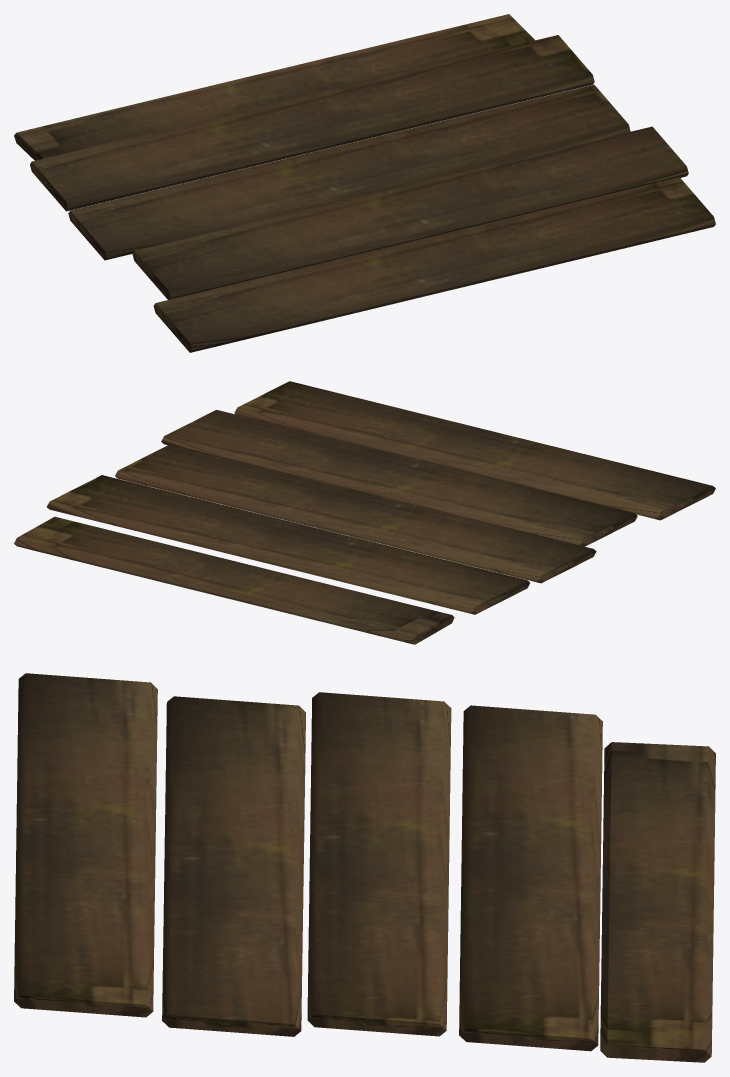
File: Platform.FBX
3 renders of one model, top to bottom at view 1: azimuth 30°, elevation 25°; view 2: azimuth 150°, elevation 25°; view 3: azimuth 270°, elevation 25°, orthographic. The views are drawn at different scales.
Visible parts, largest first — view 1: Platform; view 2: Platform; view 3: Platform.
Part boxes in pixels (x1,y1,x2,y2): Platform: (14, 14, 715, 352); Platform: (14, 381, 715, 644); Platform: (14, 673, 715, 1062).
Bounding box in the file's own units: 72.4 × 2.48 × 58.62.
Materials: 1 (1 with a texture image).
